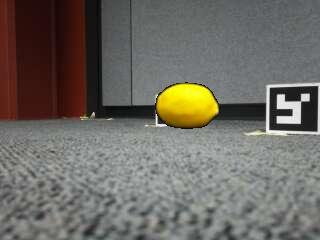lemon: (156, 82, 219, 129)
